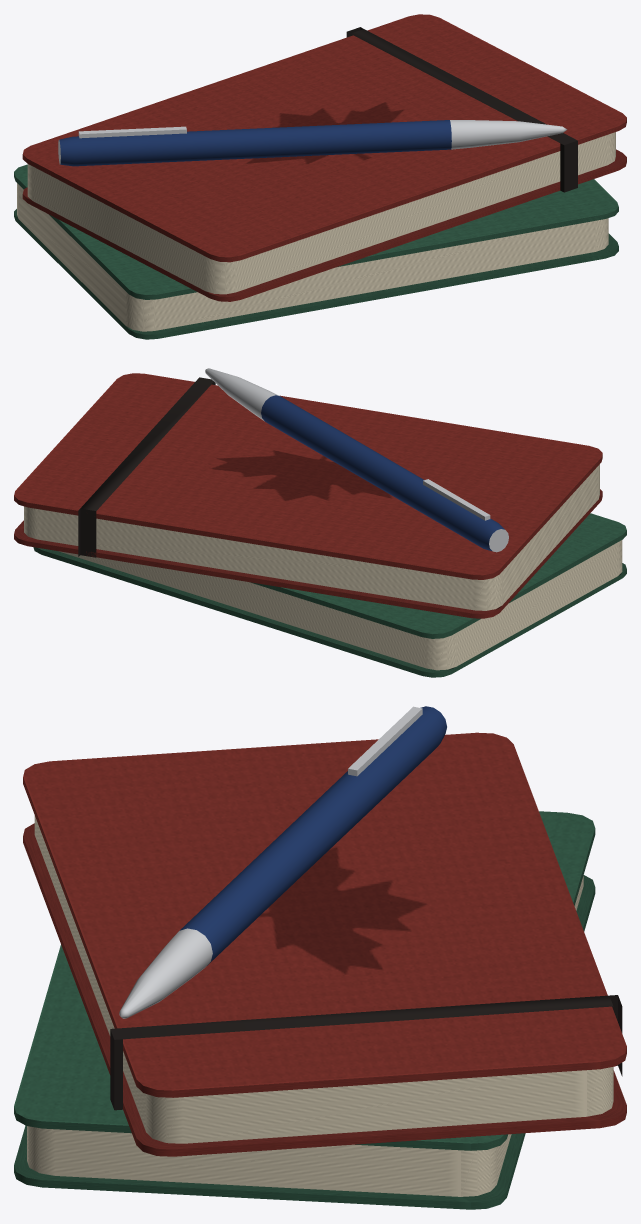
File: desk-notebooks.glb
3 renders of one model, top to bottom at view 1: azimuth 30°, elevation 25°; view 2: azimuth 150°, elevation 25°; view 3: azimuth 270°, elevation 25°, orthographic. The views are drawn at different scales.
Parts seen in each view (by area): view 1: desk-notebooks; view 2: desk-notebooks; view 3: desk-notebooks.
Part boxes in pixels (<box>): desk-notebooks: <box>14,14,626,339</box>; desk-notebooks: <box>14,368,626,677</box>; desk-notebooks: <box>14,706,626,1209</box>.
Bounding box in the file's own units: 59.39 × 13.68 × 41.97.
1 material, 1 textured.
